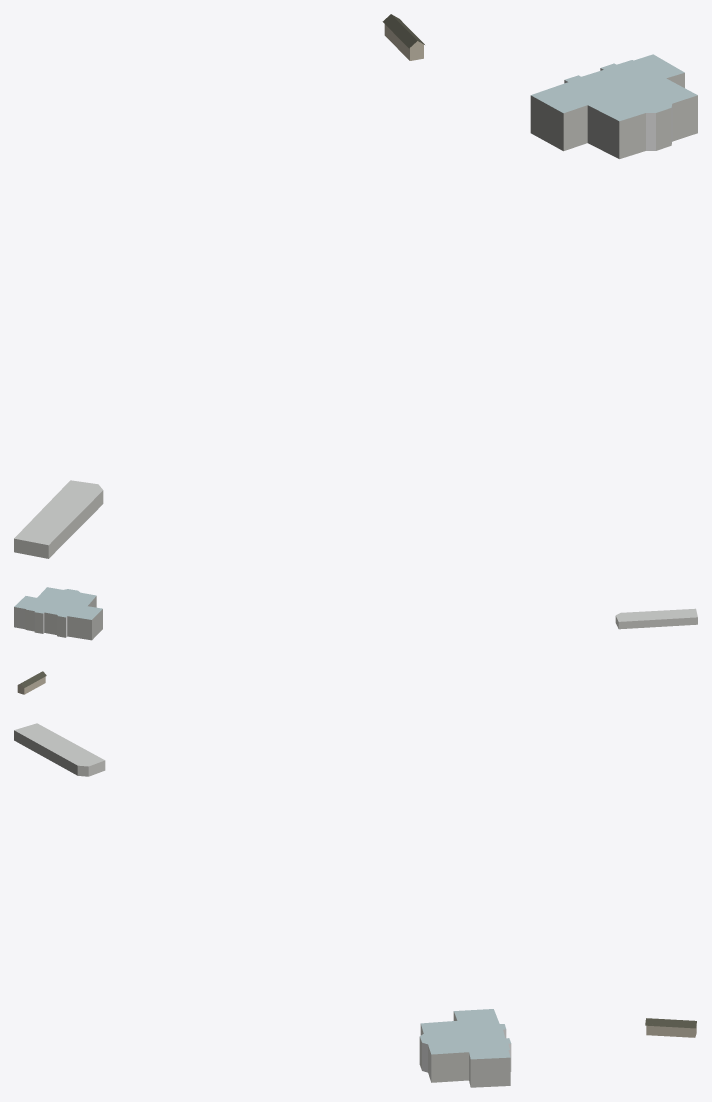
3 views of the same model, one above another, from view 1: azimuth 30°, elevation 25°; view 2: azimuth 150°, elevation 25°; view 3: azimuth 270°, elevation 25° (orthographic). The views are drawn at different scales.
Parts seen in each view (by area): view 1: tuile; view 2: tuile; view 3: tuile.
Part boxes in pixels (box(x1,y1,x2,y2)): tuile: box(14, 14, 697, 558); tuile: box(14, 587, 697, 694); tuile: box(14, 723, 696, 1087).
Size of the model in its own units: 251 by 9.45 by 207.
